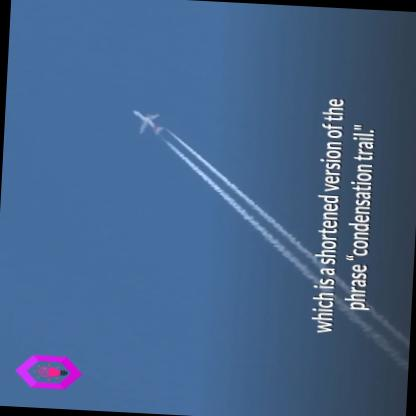plane: (126, 100, 166, 138)
